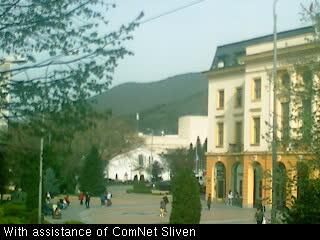person: (161, 194, 169, 215), (159, 200, 166, 218), (106, 192, 113, 208), (256, 208, 263, 224), (85, 192, 91, 209), (228, 190, 233, 207), (78, 192, 84, 206), (207, 194, 212, 210), (234, 191, 239, 207), (100, 193, 106, 206), (46, 192, 52, 204), (64, 195, 70, 207), (224, 192, 229, 206), (46, 201, 51, 212)
